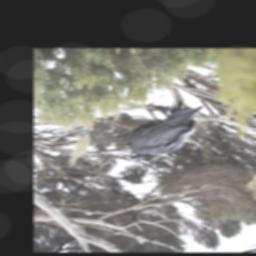Crow: (127, 97, 203, 162)
